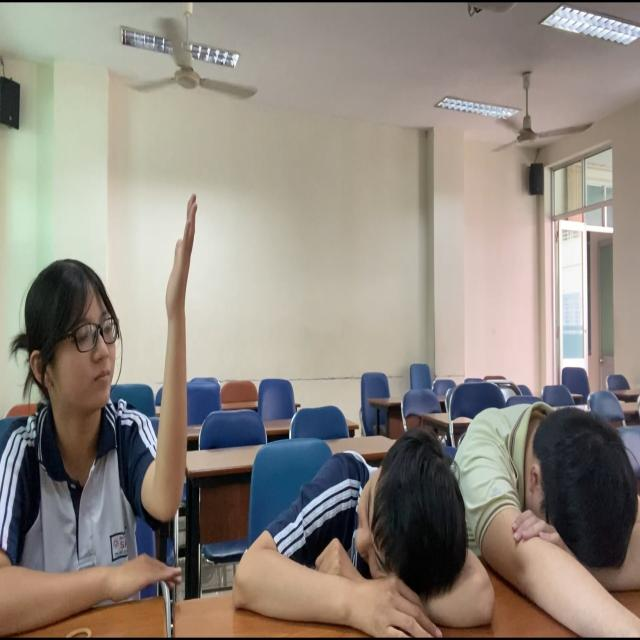raise_hand: (1, 191, 205, 640)
sleep: (228, 428, 496, 640), (464, 396, 640, 631)
